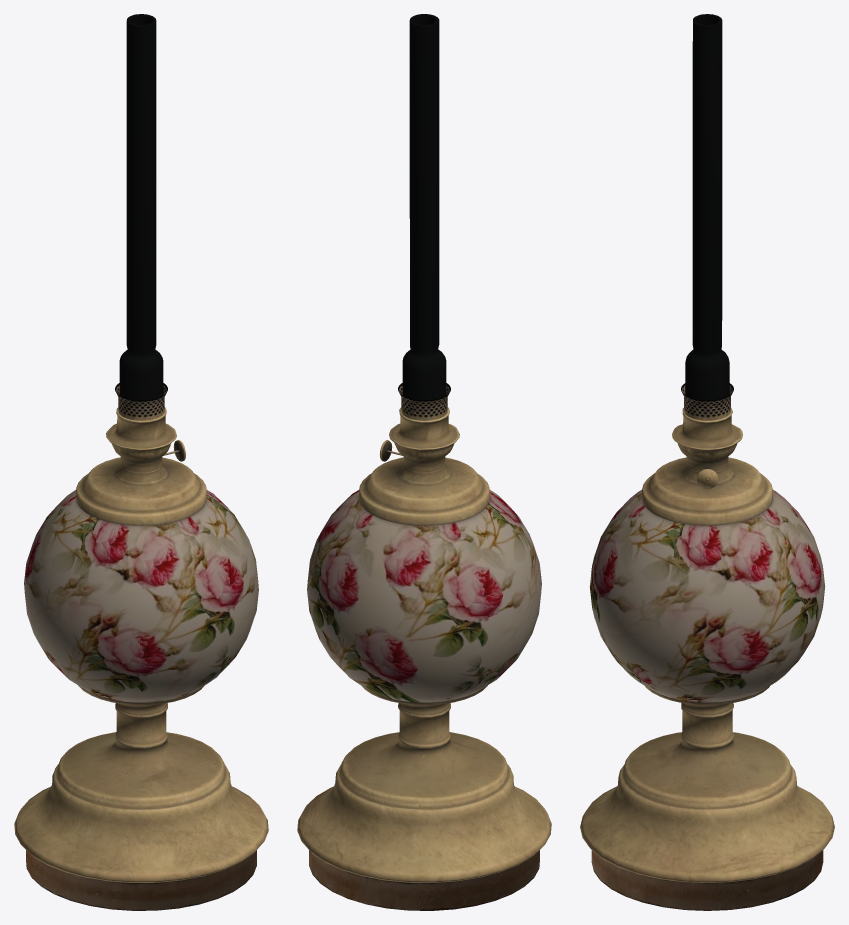
The model's file is vintage_oil_lamp.glb.
3 renders of one model, left to right at view 1: azimuth 30°, elevation 25°; view 2: azimuth 150°, elevation 25°; view 3: azimuth 270°, elevation 25°, orthographic.
Parts seen in each view (by area): view 1: vintage_oil_lamp, vintage_oil_lamp_glass; view 2: vintage_oil_lamp, vintage_oil_lamp_glass; view 3: vintage_oil_lamp, vintage_oil_lamp_glass.
Boxes of the visible parts, box(x1,y1,x2,y2) form: vintage_oil_lamp: box(14, 407, 268, 910); vintage_oil_lamp_glass: box(115, 14, 167, 420); vintage_oil_lamp: box(297, 407, 551, 910); vintage_oil_lamp_glass: box(398, 14, 450, 420); vintage_oil_lamp: box(580, 407, 834, 910); vintage_oil_lamp_glass: box(681, 14, 733, 420).
Size of the model in its own units: 0.22 by 0.8016 by 0.22.
Materials: 3 (3 with a texture image).
